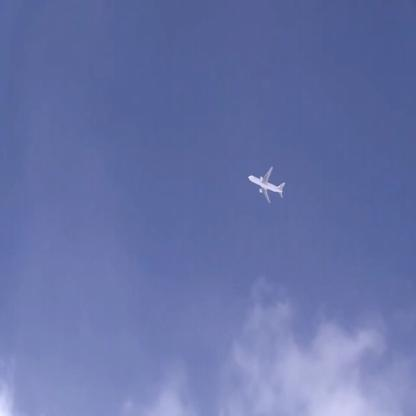CIV_Plane: (248, 168, 286, 205)
